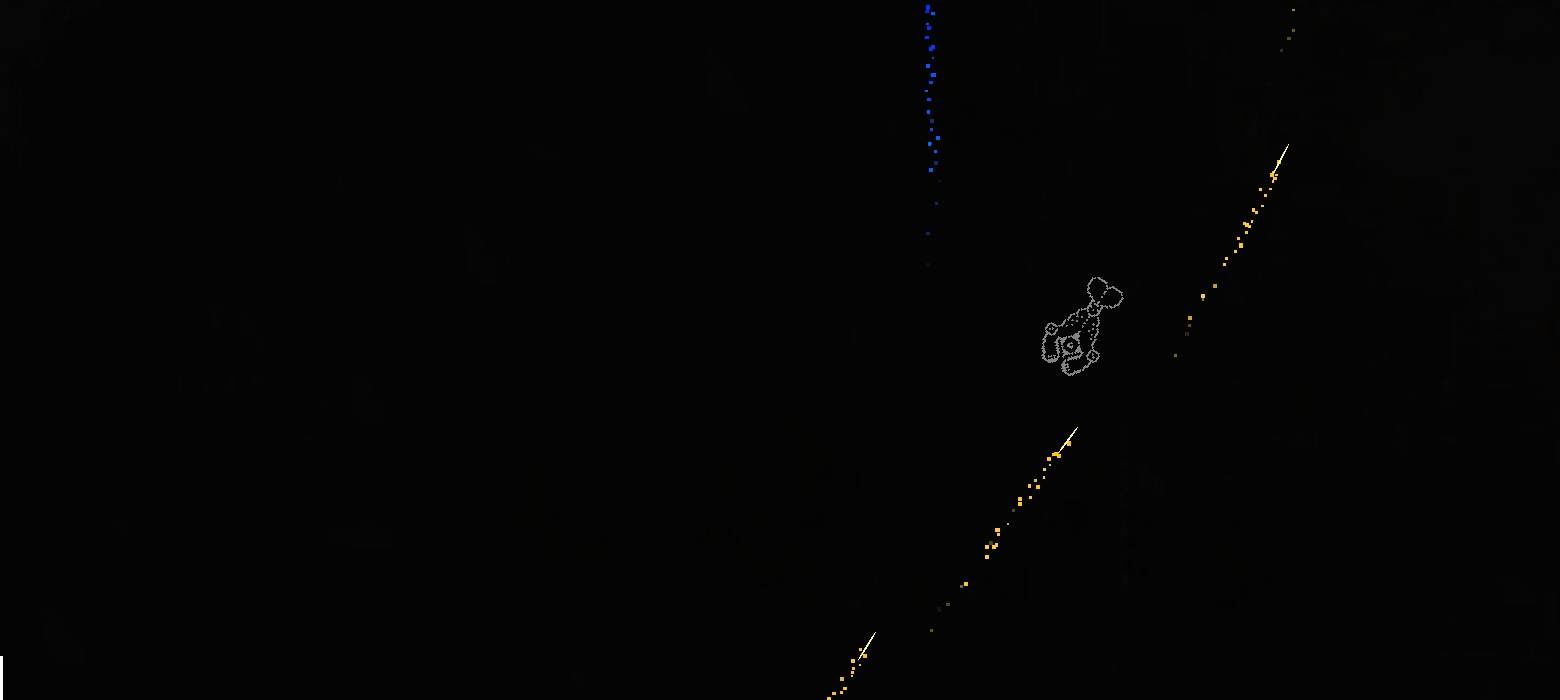enemy: (1039, 275, 1125, 377)
